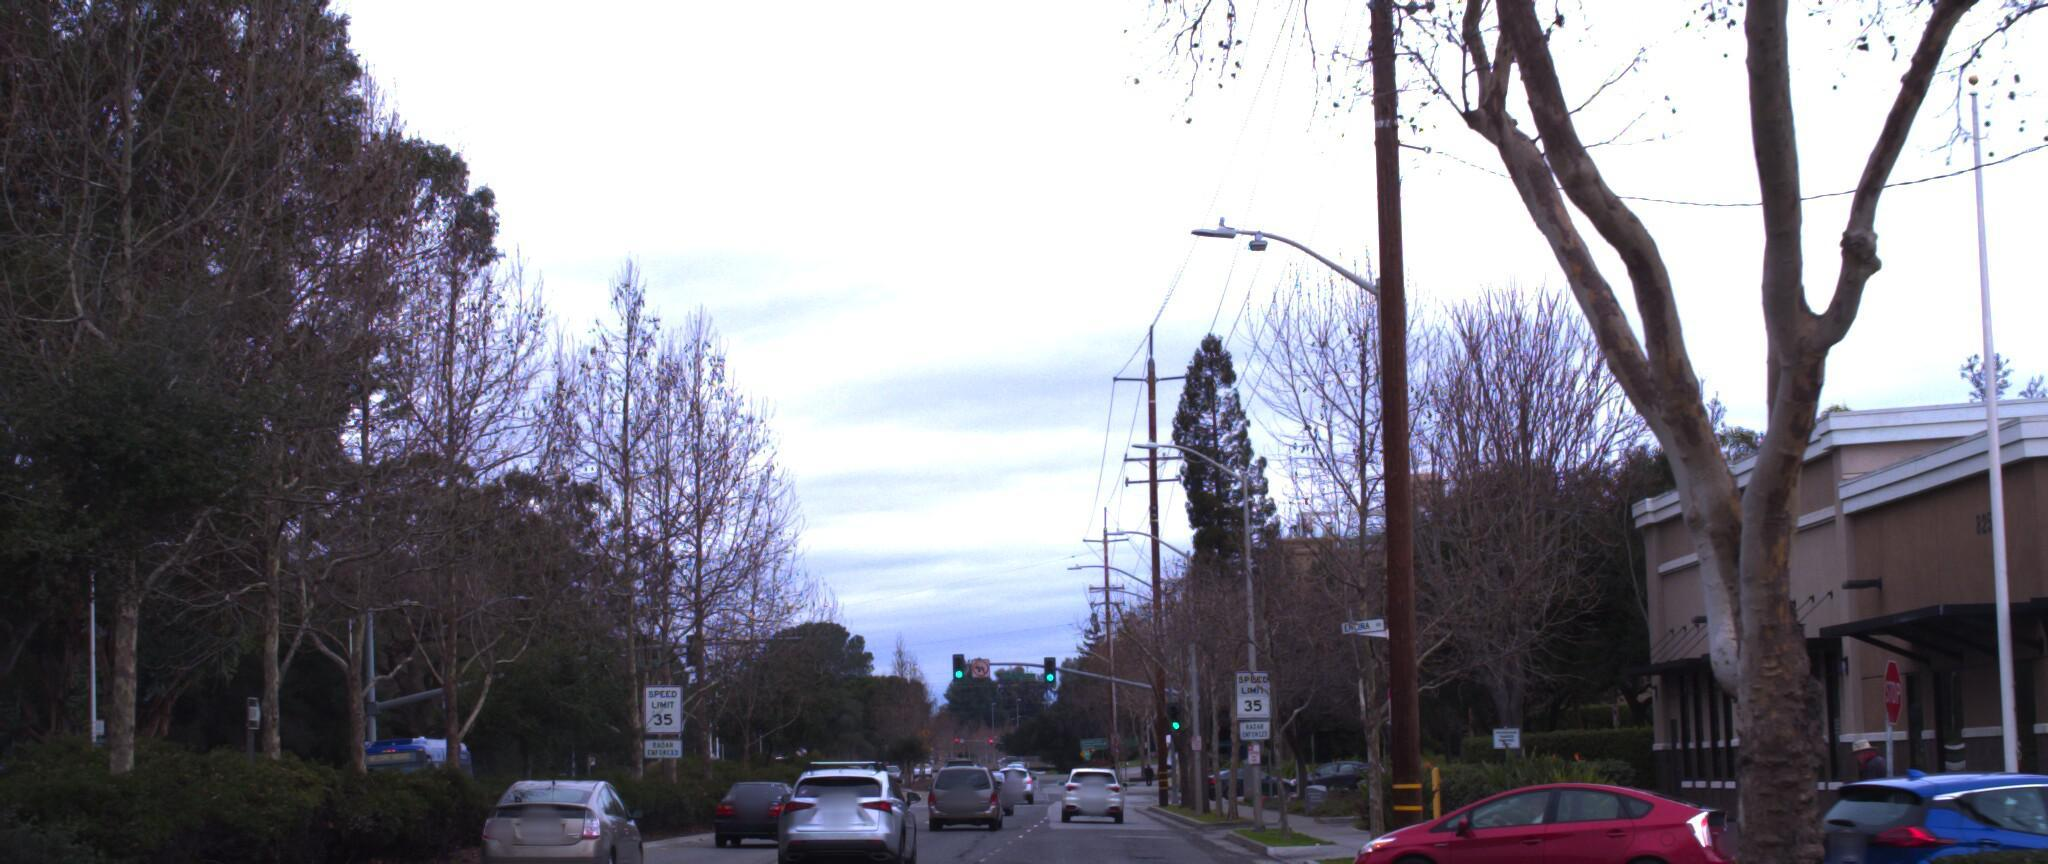car: (1317, 757, 1748, 864), (1744, 749, 2048, 864), (505, 750, 697, 864), (1876, 739, 2048, 864), (775, 737, 922, 863), (0, 770, 86, 864), (705, 754, 815, 824), (927, 739, 1004, 807)
